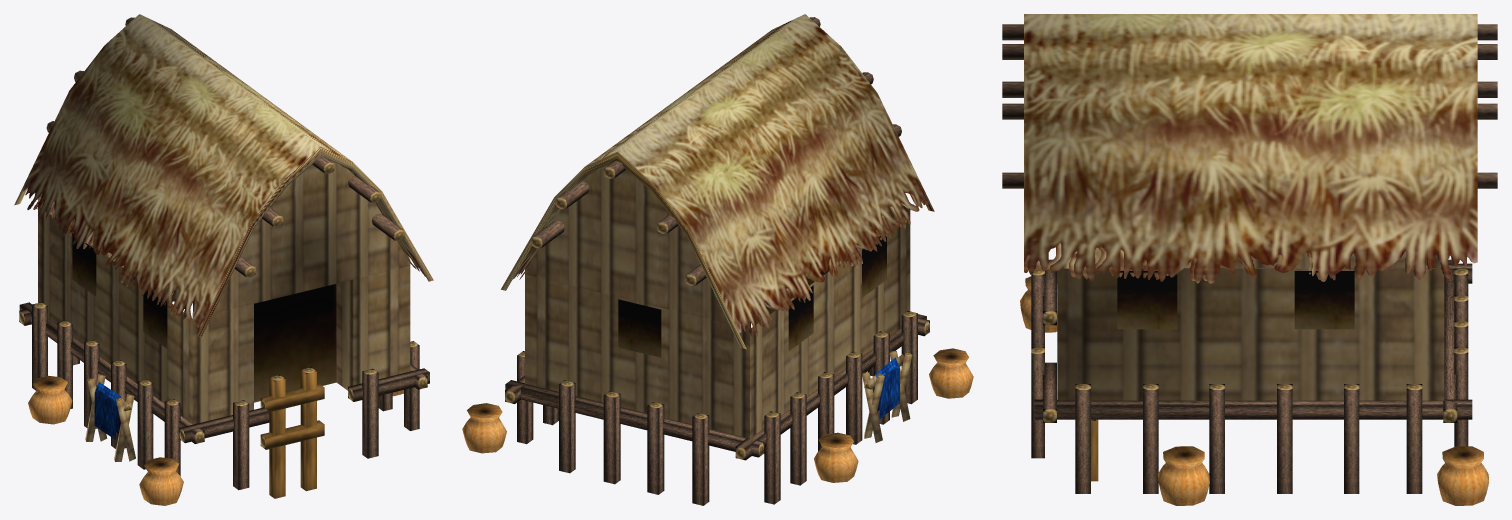
File: house_2.dae
The picture shows the model from 3 angles, left to right: view 1: azimuth 30°, elevation 25°; view 2: azimuth 150°, elevation 25°; view 3: azimuth 270°, elevation 25°; orthographic projection. The views are drawn at different scales.
Parts seen in each view (by area): view 1: house_2; view 2: house_2; view 3: house_2.
Part boxes in pixels (box(x1,y1,x2,y2)): house_2: box(14, 14, 433, 505); house_2: box(462, 14, 973, 505); house_2: box(1002, 14, 1497, 505).
Bounding box in the file's own units: 11.42 × 12.25 × 12.41.
